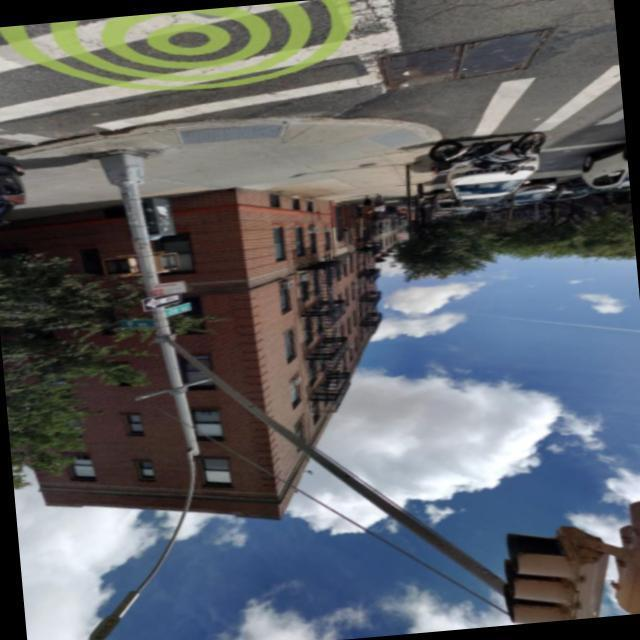off: (87, 373, 194, 640)
